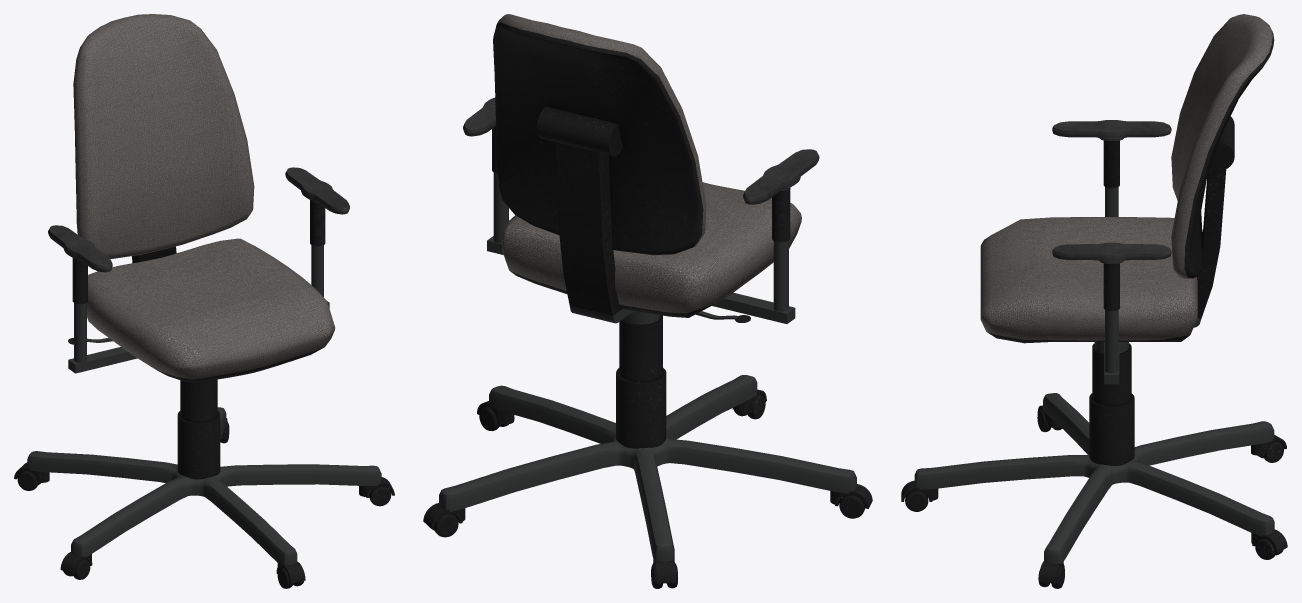
File: chair.glb
3 renders of one model, left to right at view 1: azimuth 30°, elevation 25°; view 2: azimuth 150°, elevation 25°; view 3: azimuth 270°, elevation 25°, orthographic. The views are drawn at different scales.
Parts seen in each view (by area): view 1: OfficeChair_OfficeChairCloth_0, OfficeChair_OfficeChairMetal_0, OfficeChair_OfficeChairPlastic_0, OfficeChair_OfficeChairLeather_0; view 2: OfficeChair_OfficeChairPlastic_0, OfficeChair_OfficeChairMetal_0, OfficeChair_OfficeChairCloth_0, OfficeChair_OfficeChairLeather_0; view 3: OfficeChair_OfficeChairCloth_0, OfficeChair_OfficeChairMetal_0, OfficeChair_OfficeChairPlastic_0, OfficeChair_OfficeChairLeather_0.
Boxes of the visible parts, x1,y1,x2,y2 form: OfficeChair_OfficeChairCloth_0: (73, 14, 335, 379); OfficeChair_OfficeChairMetal_0: (27, 245, 381, 566); OfficeChair_OfficeChairPlastic_0: (14, 54, 394, 588); OfficeChair_OfficeChairLeather_0: (48, 167, 349, 272); OfficeChair_OfficeChairPlastic_0: (423, 22, 872, 588); OfficeChair_OfficeChairMetal_0: (439, 172, 856, 561); OfficeChair_OfficeChairCloth_0: (497, 14, 801, 313); OfficeChair_OfficeChairLeather_0: (463, 97, 819, 204); OfficeChair_OfficeChairCloth_0: (980, 14, 1272, 340); OfficeChair_OfficeChairMetal_0: (914, 187, 1274, 564); OfficeChair_OfficeChairPlastic_0: (901, 31, 1287, 588); OfficeChair_OfficeChairLeather_0: (1052, 120, 1171, 263).
Bounding box in the file's own units: 97.3 × 126 × 92.63.
4 materials, 3 textured.
